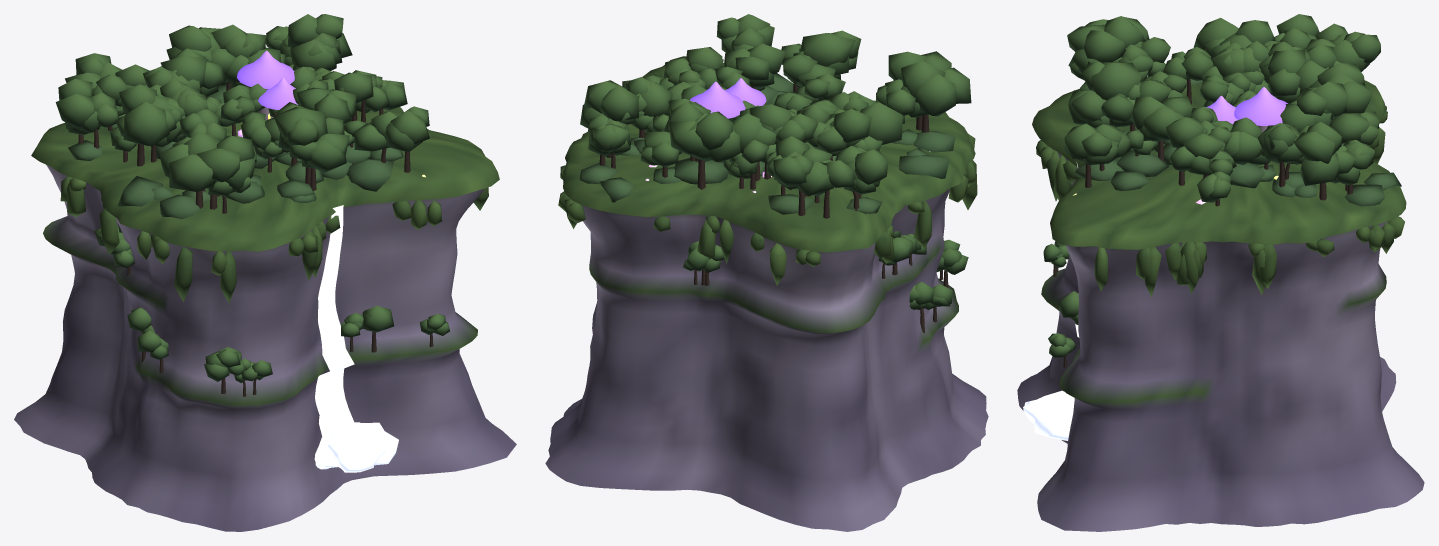
File: mesa_round.glb
The picture shows the model from 3 angles, left to right: view 1: azimuth 30°, elevation 25°; view 2: azimuth 150°, elevation 25°; view 3: azimuth 270°, elevation 25°; orthographic projection. The views are drawn at different scales.
Parts seen in each view (by area): view 1: hero_valley_rock, hero_valley_leaf, hero_valley_moss, valley_falls, valley_spray, hero_valley_bark, hero_valley_spire_cap; view 2: hero_valley_rock, hero_valley_leaf, hero_valley_moss, hero_valley_bark, hero_valley_spire_cap; view 3: hero_valley_rock, hero_valley_leaf, hero_valley_moss, valley_spray, hero_valley_spire_cap, hero_valley_bark.
Part boxes in pixels (bbox=[...]): hero_valley_rock: bbox=[14, 164, 516, 531]; hero_valley_leaf: bbox=[55, 14, 449, 383]; hero_valley_moss: bbox=[31, 107, 499, 303]; valley_falls: bbox=[315, 205, 355, 447]; valley_spray: bbox=[314, 422, 398, 472]; hero_valley_bark: bbox=[78, 82, 433, 396]; hero_valley_spire_cap: bbox=[237, 50, 297, 109]; hero_valley_rock: bbox=[545, 188, 988, 531]; hero_valley_leaf: bbox=[579, 14, 971, 309]; hero_valley_moss: bbox=[558, 56, 977, 285]; hero_valley_bark: bbox=[599, 83, 948, 333]; hero_valley_spire_cap: bbox=[690, 78, 766, 118]; hero_valley_rock: bbox=[1017, 148, 1424, 531]; hero_valley_leaf: bbox=[1043, 14, 1401, 357]; hero_valley_moss: bbox=[1032, 76, 1406, 297]; valley_spray: bbox=[1023, 390, 1074, 440]; hero_valley_spire_cap: bbox=[1206, 87, 1287, 125]; hero_valley_bark: bbox=[1053, 79, 1352, 367].
Bounding box in the file's own units: 146 × 141 × 139.
